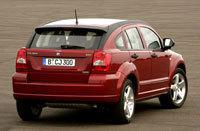Car: (8, 11, 195, 126)
